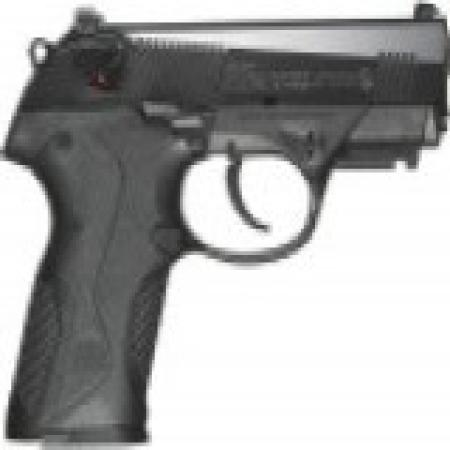Pistol: (9, 7, 448, 442)
